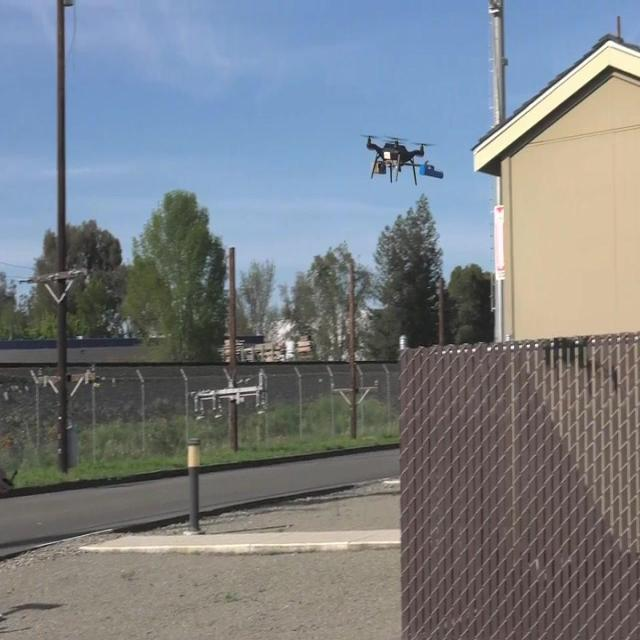drone: (363, 130, 444, 190)
